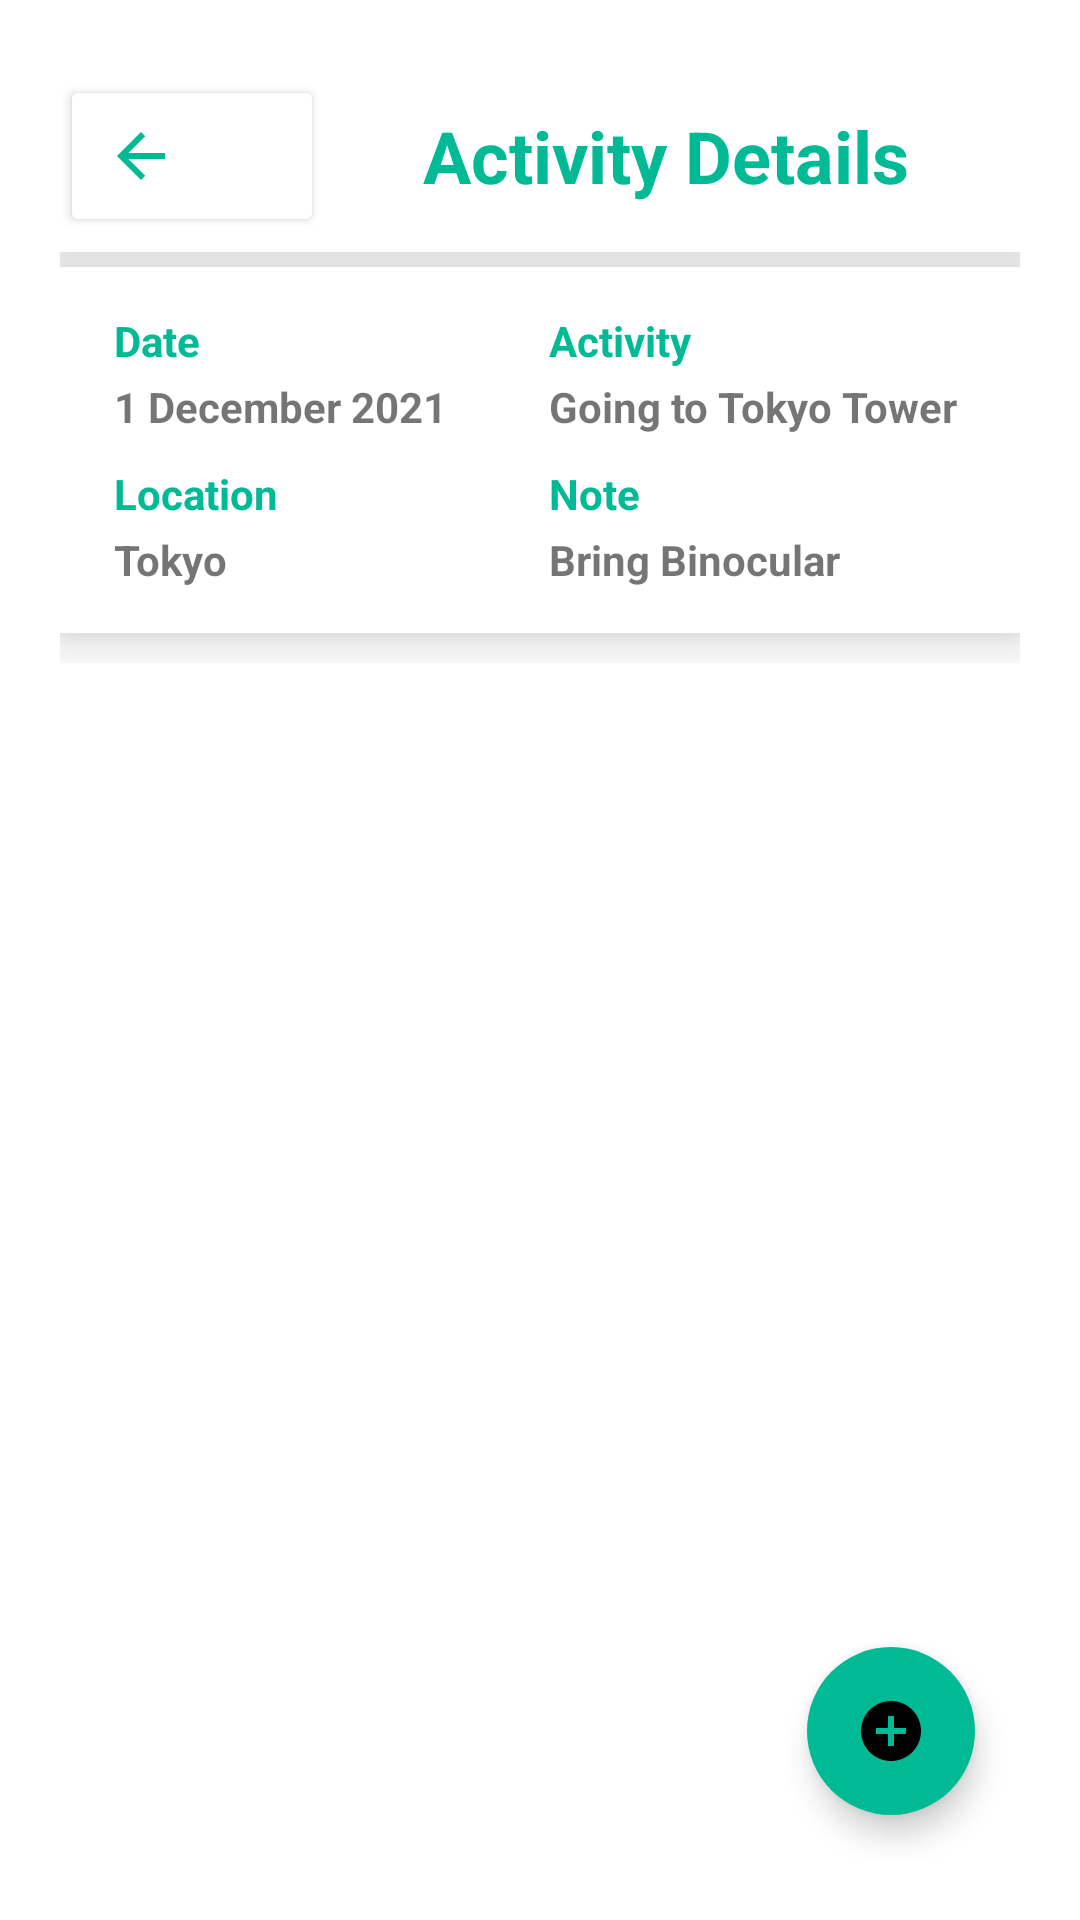

Named icons in this screenshot (1080*1920) and their bounding boxes, (x1, y1, x2, y2):
add circle: (807, 1647, 975, 1815)
